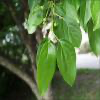Apple leaf: (35, 36, 57, 99), (56, 38, 78, 91), (25, 1, 52, 37), (60, 16, 83, 50), (85, 13, 100, 61)
